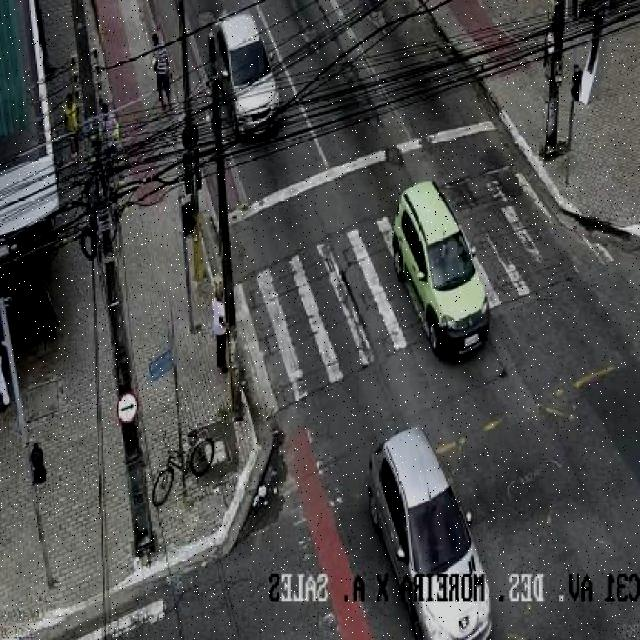bicycle: (152, 428, 214, 508)
car: (370, 424, 492, 636), (392, 178, 491, 359), (216, 10, 281, 142)
motorbike: (151, 30, 174, 110), (212, 286, 228, 372), (100, 100, 118, 168), (64, 92, 80, 162)
